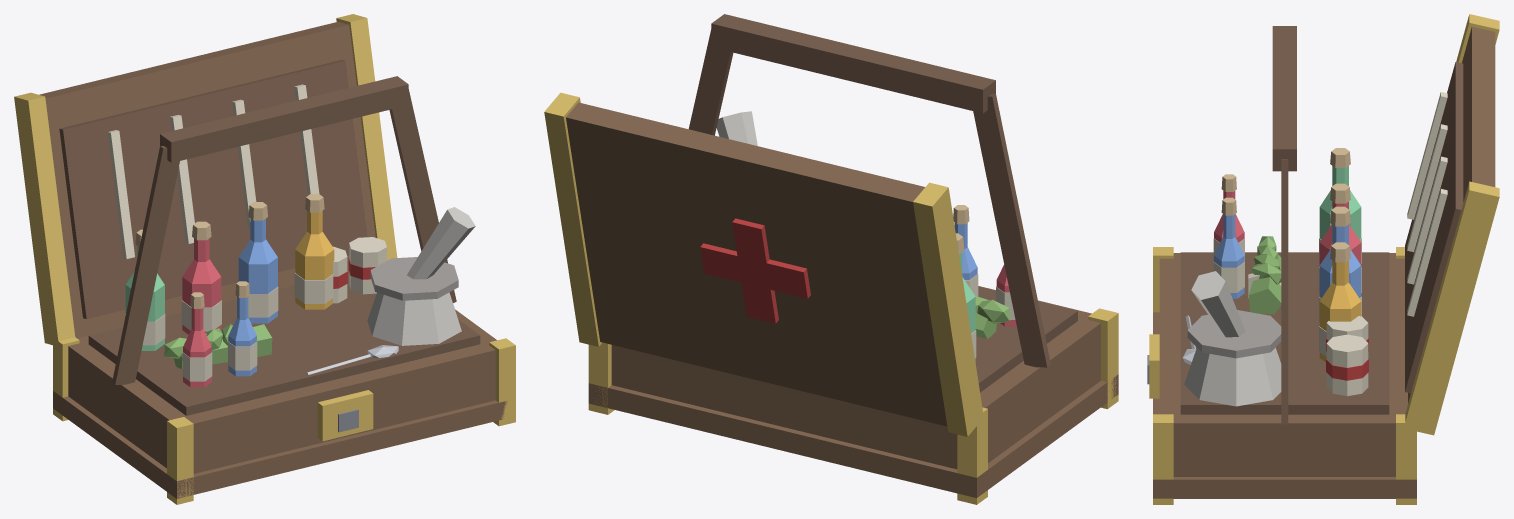
File: Item_ApothecaryKit.glb
The picture shows the model from 3 angles, left to right: view 1: azimuth 30°, elevation 25°; view 2: azimuth 150°, elevation 25°; view 3: azimuth 270°, elevation 25°; orthographic projection. The views are drawn at different scales.
Visible parts, largest first — view 1: ApothecaryKit; view 2: ApothecaryKit; view 3: ApothecaryKit.
Part boxes in pixels (bbox=[...]): ApothecaryKit: bbox=[14, 14, 515, 504]; ApothecaryKit: bbox=[544, 14, 1118, 504]; ApothecaryKit: bbox=[1147, 14, 1499, 504].
Bounding box in the file's own units: 0.6042 × 0.5225 × 0.507.
